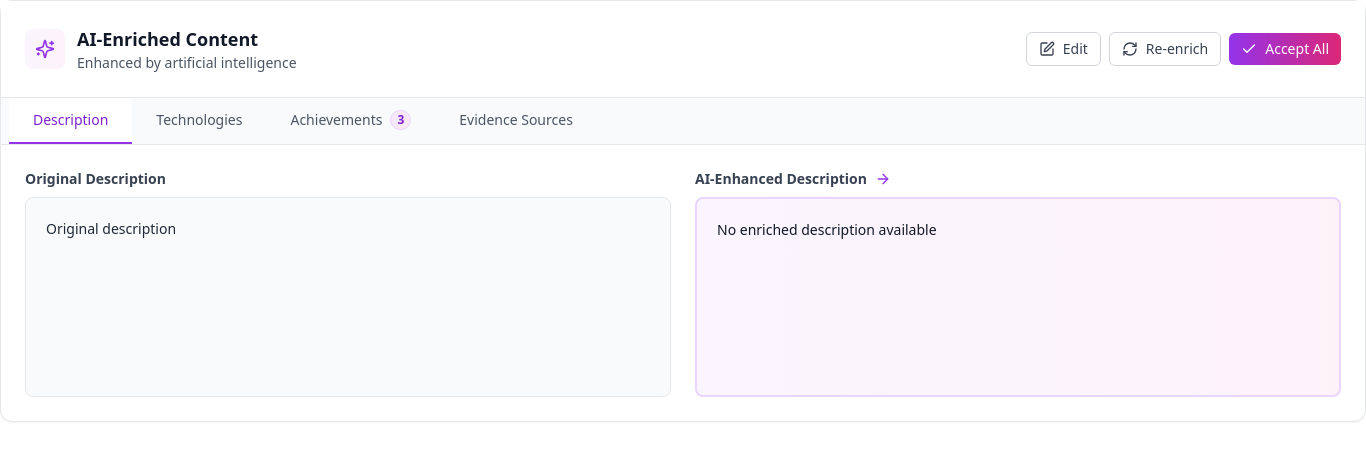
it: EnrichedContentViewer › switches to achievements tab when clicked
This screenshot has width=1366, height=457.
Step 1. Click the button "Achievements 3" → (351, 121), box left=266, top=98, right=435, bottom=144
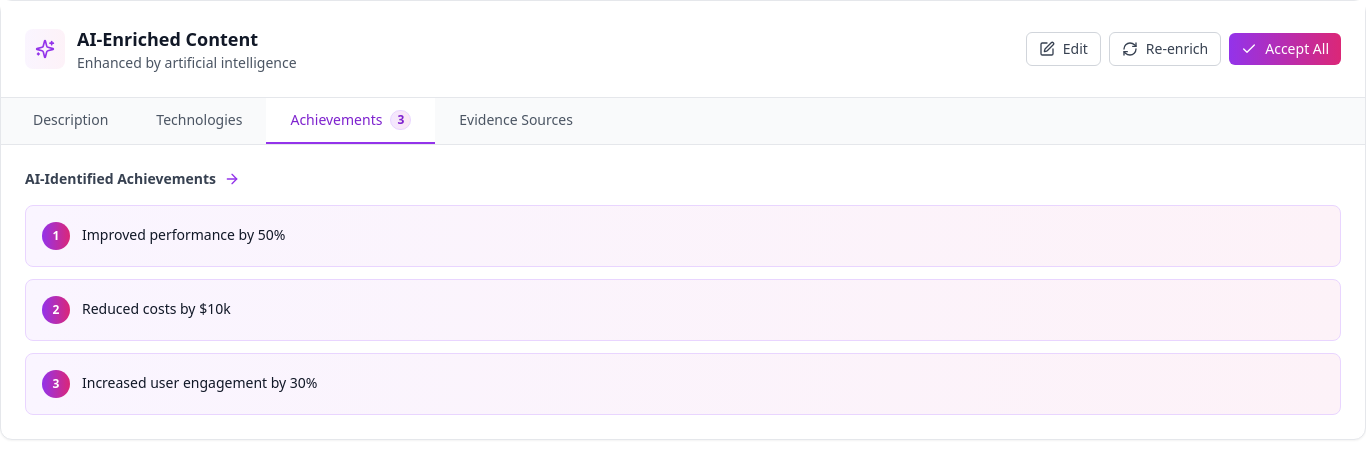
Check: the heading "AI-Identified Achievements" is shown, box left=25, top=169, right=216, bottom=189
Check: the text "Improved performance by 50%" is shown, box left=82, top=225, right=285, bottom=244
Check: the text "Reduced costs by $10k" is shown, box left=82, top=299, right=231, bottom=318
